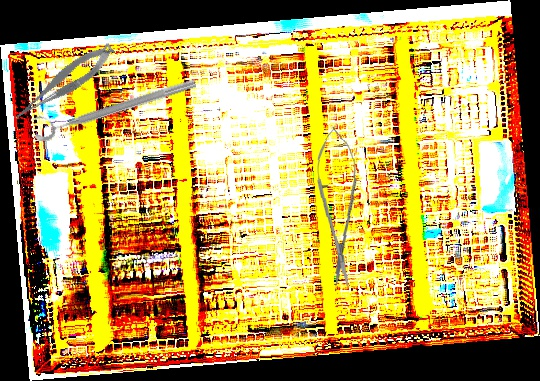Fixation Ring: (28, 65, 199, 145)
Micro Scissor: (4, 39, 122, 125), (312, 126, 364, 288)
